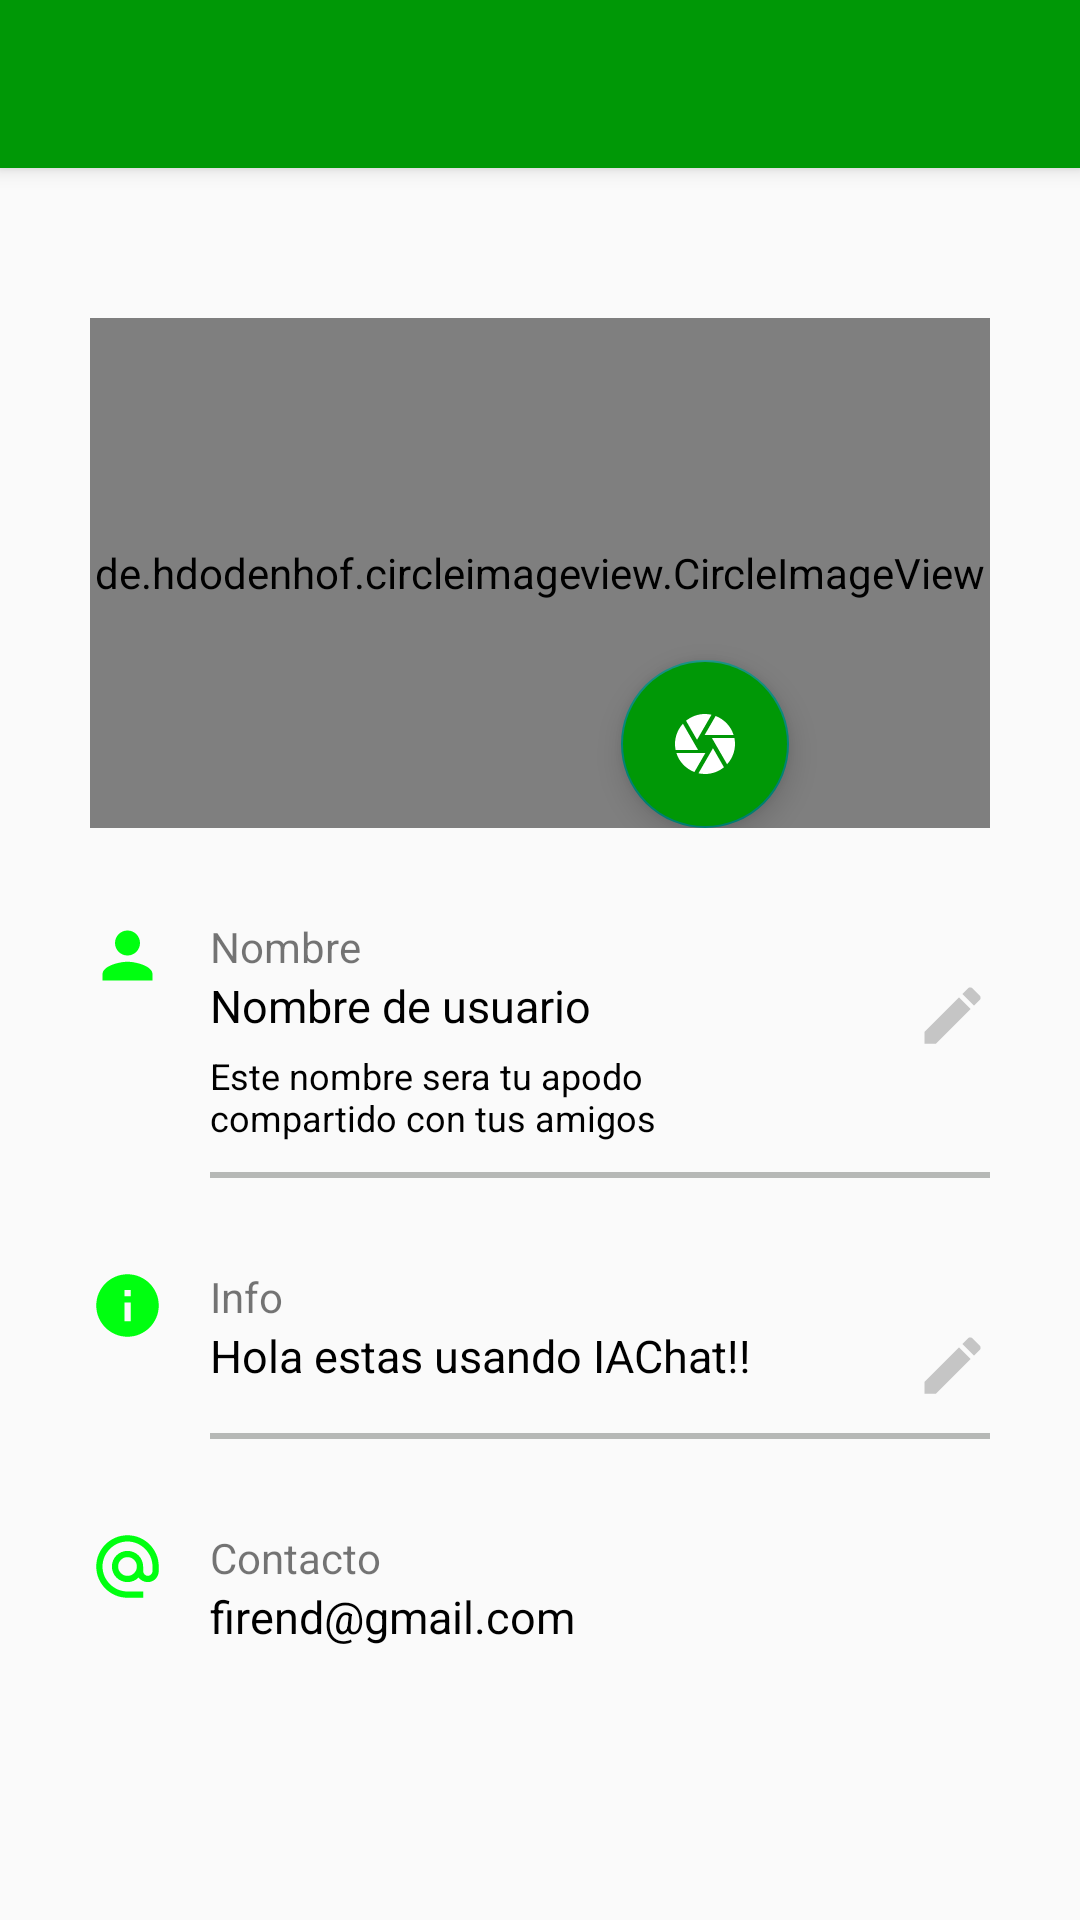

Icon click points for this 1080px×1920px phone screenshot, format [x,y]:
camera profile: [705,744]
edit profile: [952,1015], [952,1365]
email: [127,1566]
person profile: [127,955]
